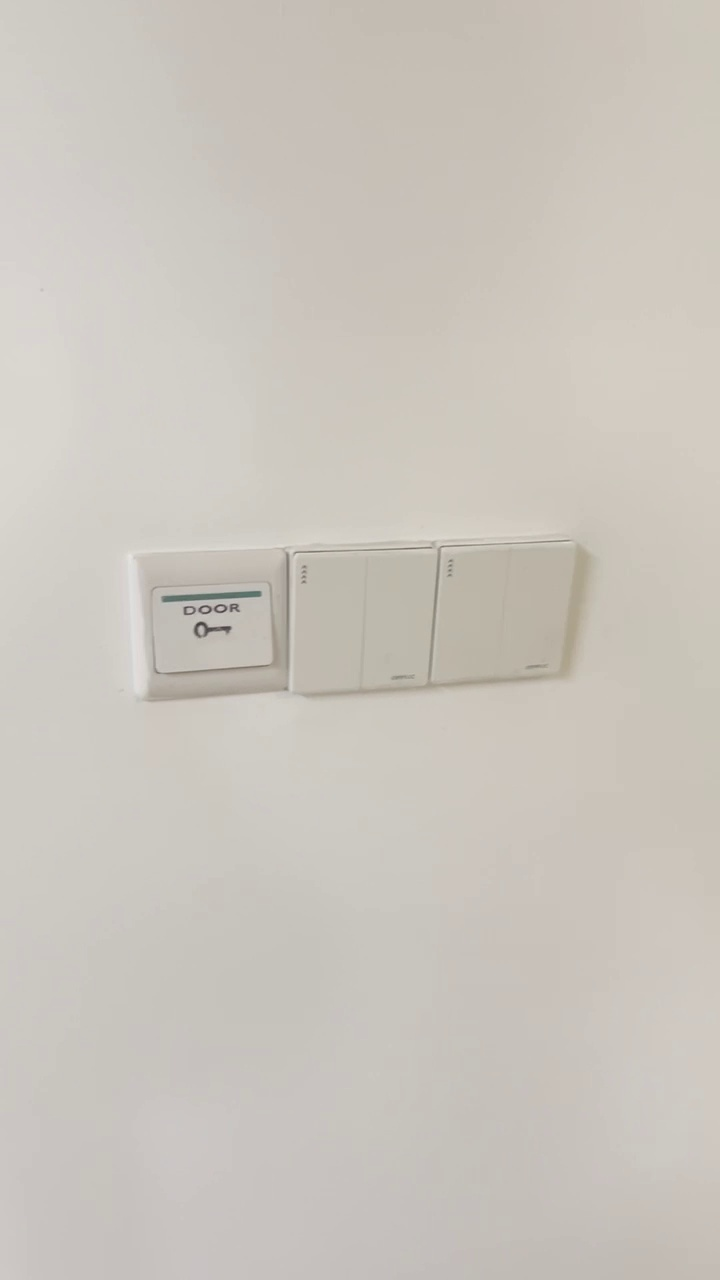button: (283, 535, 438, 695), (434, 531, 583, 684)
